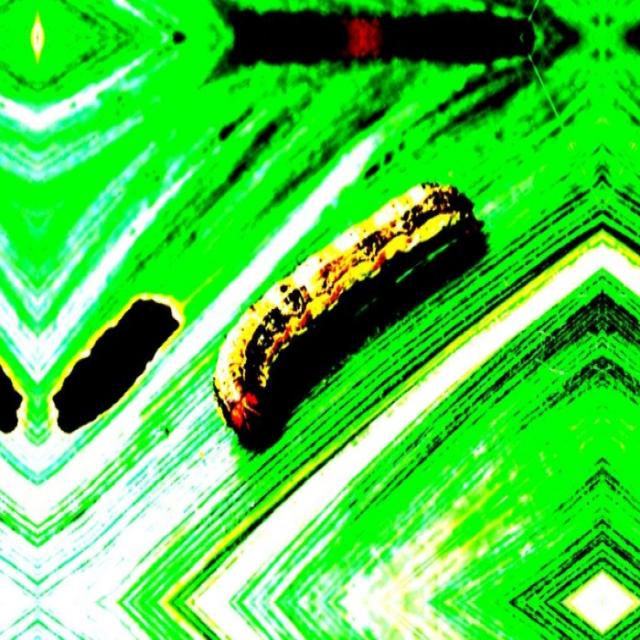Armyworm: (212, 162, 470, 457)
Armyworm_damage: (25, 258, 189, 463)
